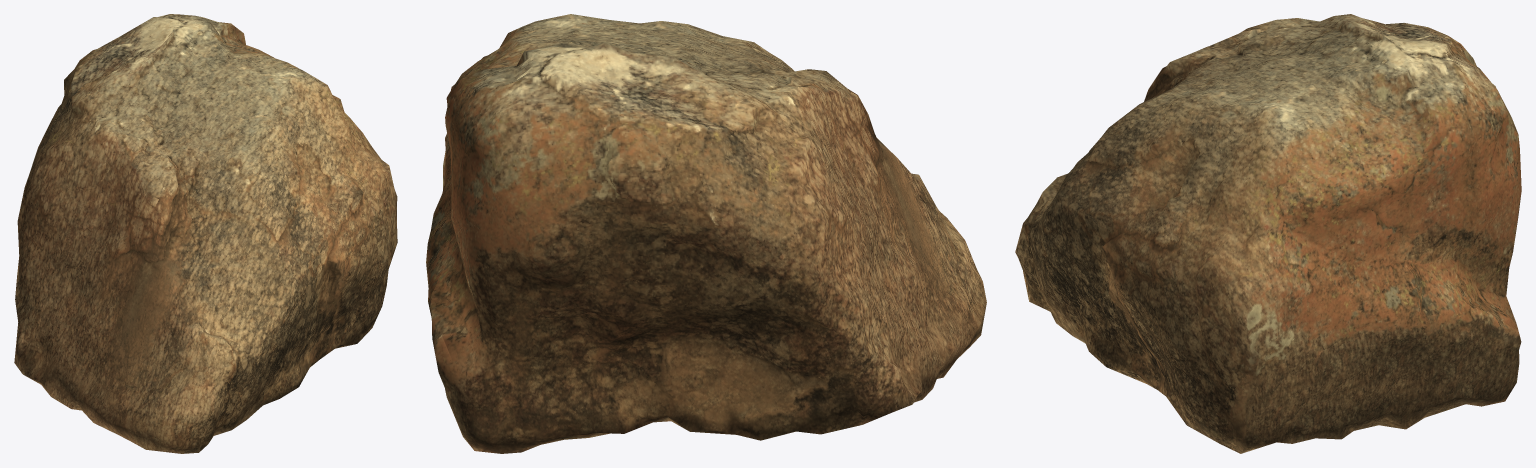
Rendered from mm6_deco_rock01.glb.
The picture shows the model from 3 angles, left to right: view 1: azimuth 30°, elevation 25°; view 2: azimuth 150°, elevation 25°; view 3: azimuth 270°, elevation 25°; orthographic projection. The views are drawn at different scales.
Parts seen in each view (by area): view 1: Rock; view 2: Rock; view 3: Rock.
Boxes of the visible parts, x1,y1,x2,y2 form: Rock: [14, 14, 397, 453]; Rock: [426, 14, 986, 453]; Rock: [1015, 14, 1521, 453].
Bounding box in the file's own units: 2.5 × 1.9 × 2.52.
Materials: 1 (1 with a texture image).
